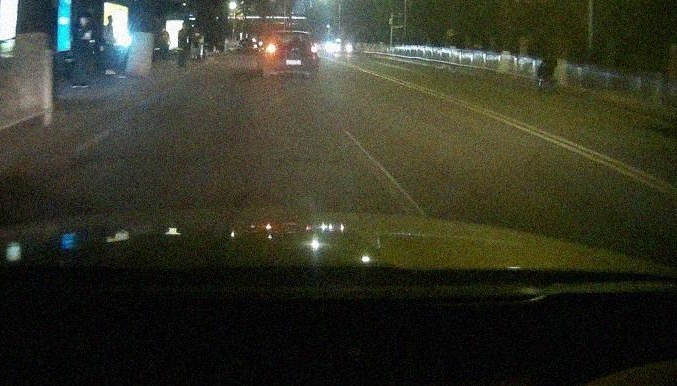L_light: (265, 44, 280, 51)
R_light: (305, 45, 317, 52)
T_light: (288, 32, 298, 35)
night-left: (263, 30, 320, 82)
